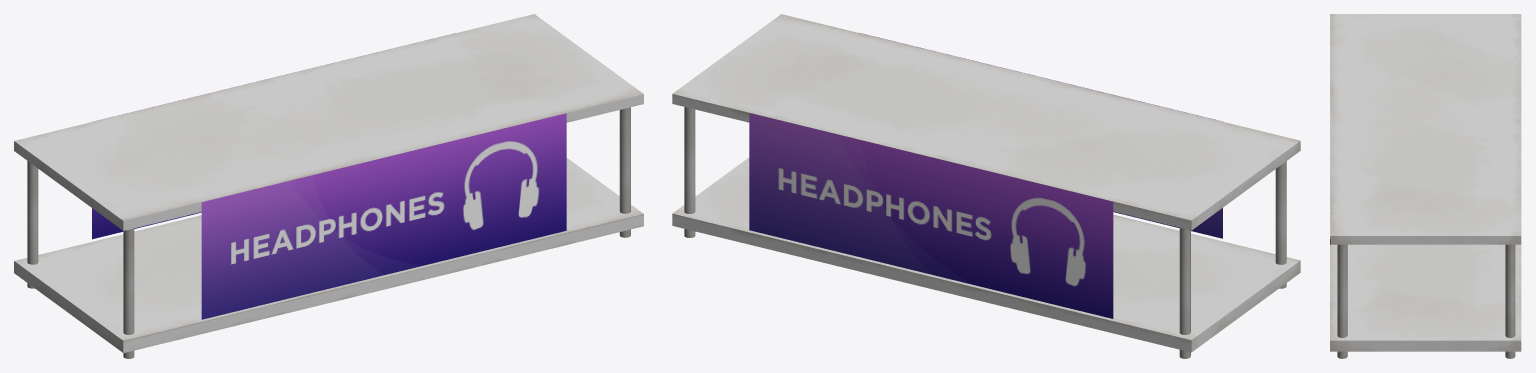
The model's file is Table.fbx.
3 renders of one model, left to right at view 1: azimuth 30°, elevation 25°; view 2: azimuth 150°, elevation 25°; view 3: azimuth 270°, elevation 25°, orthographic. The views are drawn at different scales.
Parts seen in each view (by area): view 1: Table_1; view 2: Table_1; view 3: Table_1.
Boxes of the visible parts, <box> form: Table_1: <box>14,14,643,358</box>; Table_1: <box>672,14,1300,358</box>; Table_1: <box>1330,14,1521,358</box>.
Bounding box in the file's own units: 292 × 77.02 × 107.
